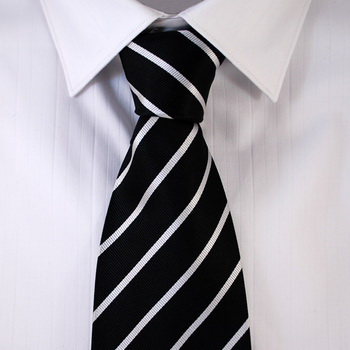tie: (86, 19, 263, 346)
